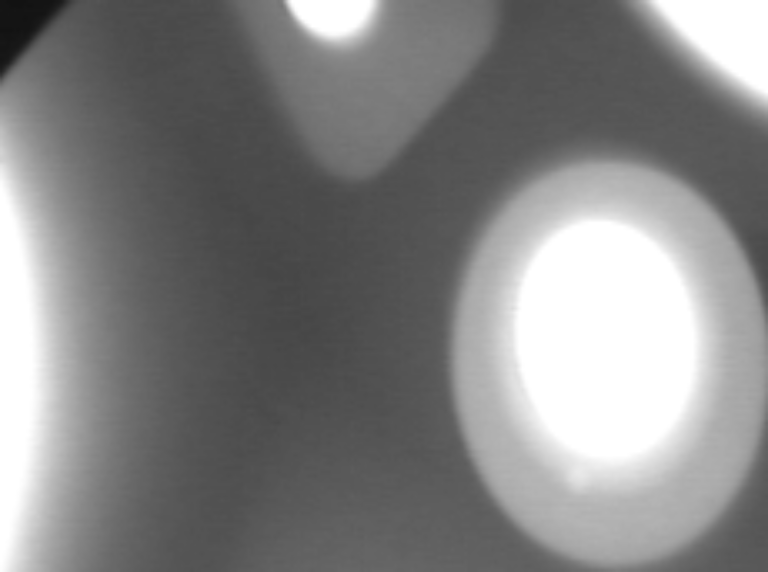defect: (564, 470, 604, 519)
